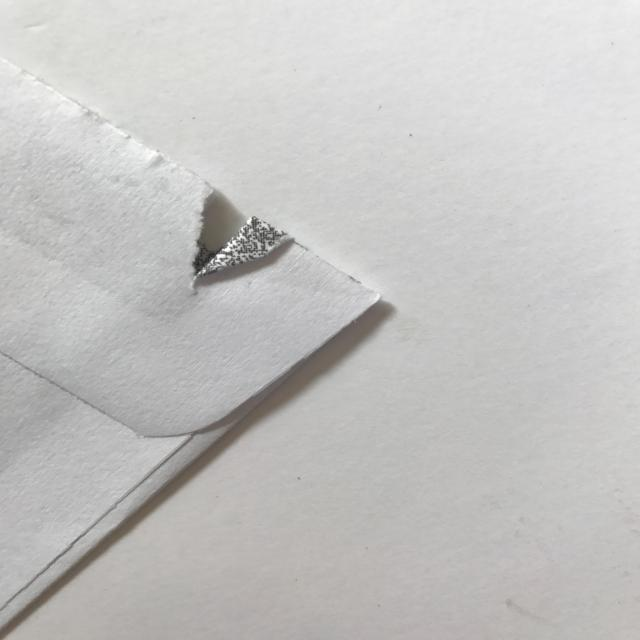paper: (1, 56, 382, 640)
